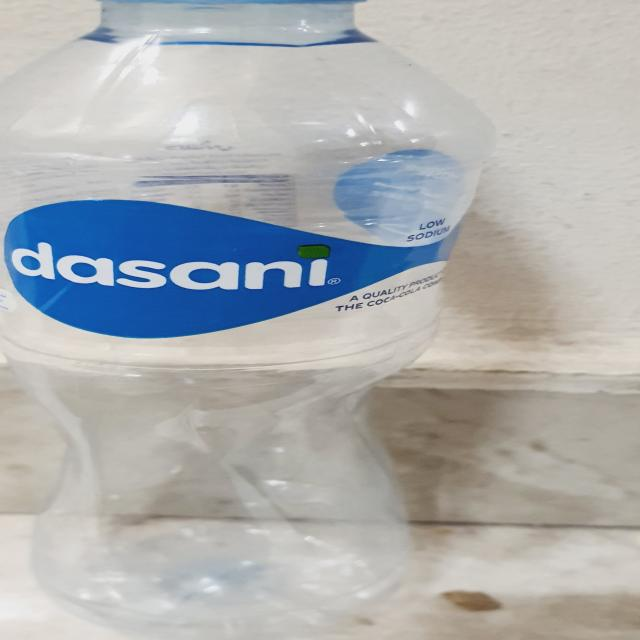plastic: (0, 0, 491, 640)
